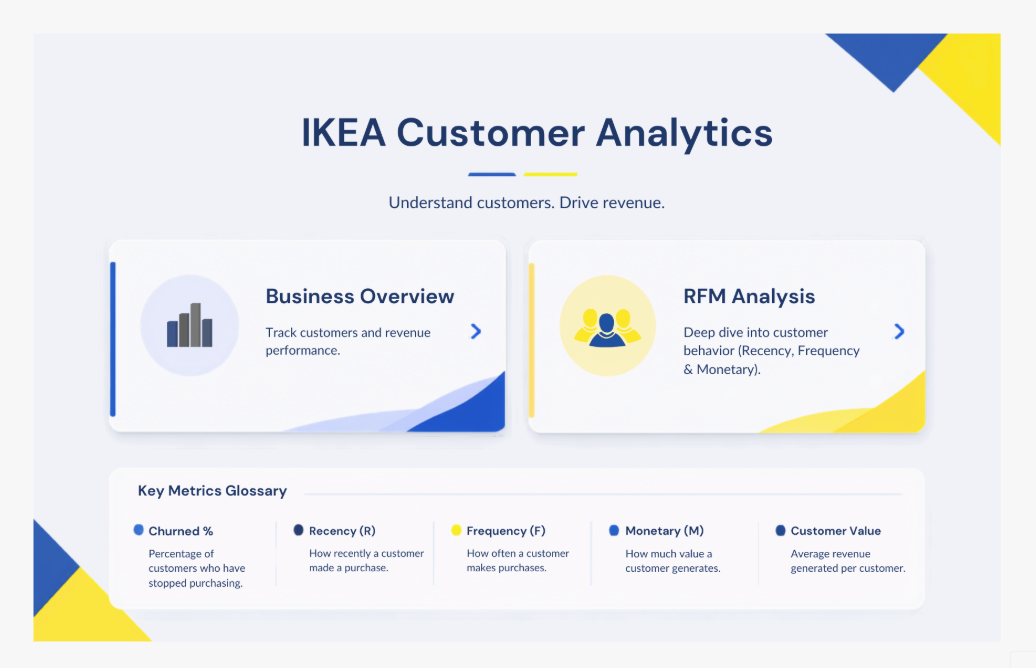

Layout of this report page (visuals, bound fields, positions):
{"tool":"powerbi","page":{"name":"Page 1","canvas":[2050,1350],"ordinal":0},"visuals":[{"type":"cardVisual","fields":{"Data":["Min(Sales_Data.segment)"]},"box":[116,28,134,114],"z":0}]}

Visuals, with their boxes in screenshot pixels (x1, y1, x2, y2), scaled from the page's 2050x1350 canvas onto the 1036x668 screenshot:
cardVisual - Min(Sales_Data.segment): bbox=[59, 14, 126, 70]
